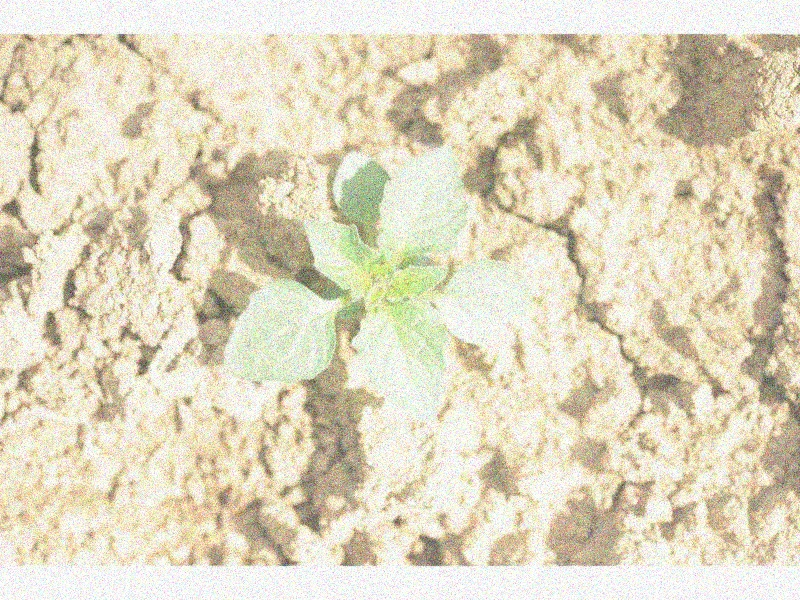nightshade: (223, 138, 531, 422)
